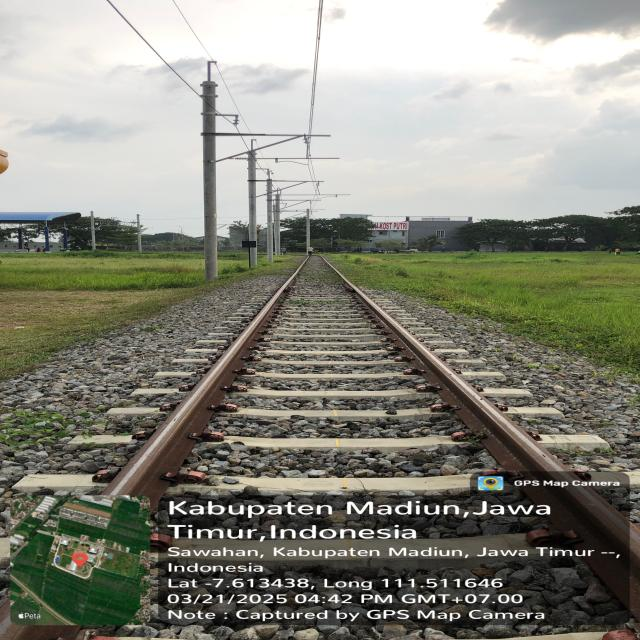rail-detection: (341, 276, 640, 618), (104, 267, 300, 505)
